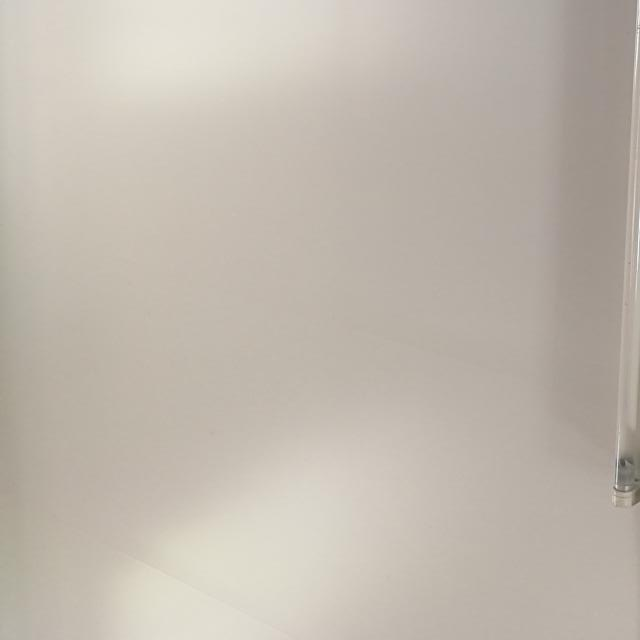fluorescent tube: (575, 0, 640, 534)
